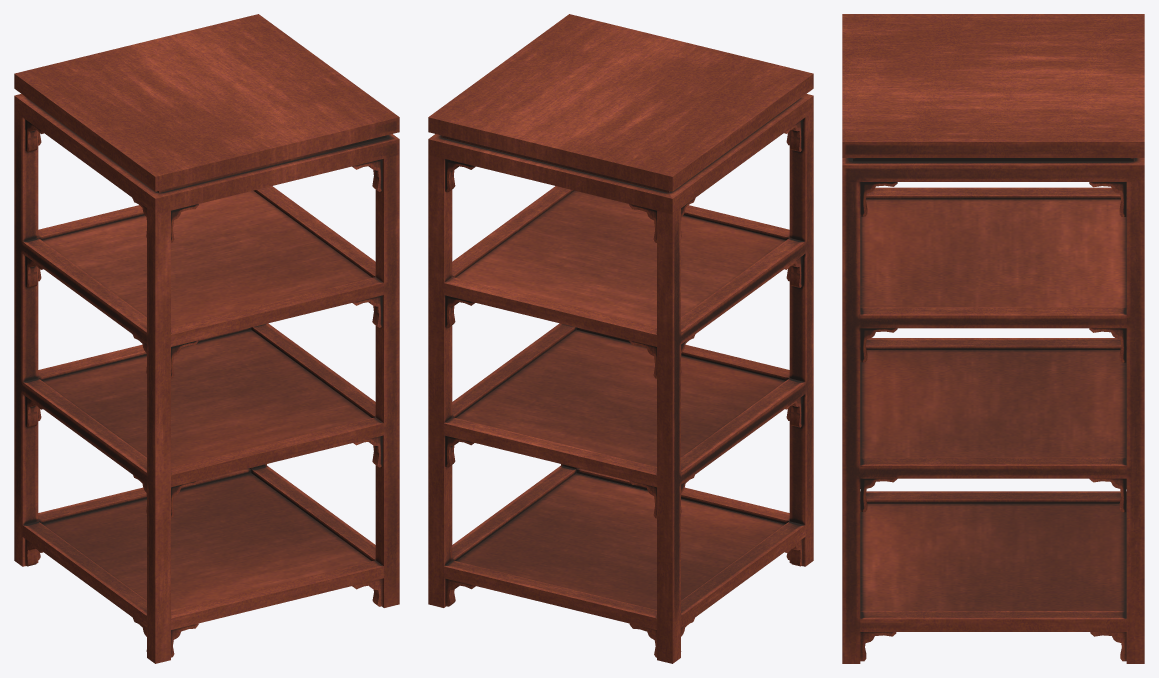
Rendered from SM_Wooden_Tray.fbx.
3 views of the same model, side by side, from view 1: azimuth 30°, elevation 25°; view 2: azimuth 150°, elevation 25°; view 3: azimuth 270°, elevation 25° (orthographic). The views are drawn at different scales.
Visible parts, largest first — view 1: SM_Wooden_Tray; view 2: SM_Wooden_Tray; view 3: SM_Wooden_Tray.
Part boxes in pixels (x1,y1,x2,y2): SM_Wooden_Tray: [14, 14, 399, 663]; SM_Wooden_Tray: [428, 14, 813, 663]; SM_Wooden_Tray: [842, 14, 1144, 663].
Size of the model in its own units: 38.78 by 38.78 by 73.85.
1 material, 1 textured.
